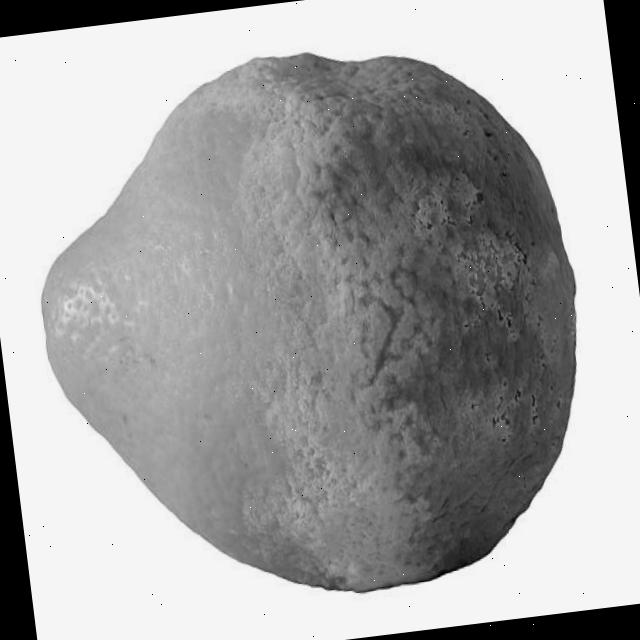Rotten: (12, 21, 613, 628)
